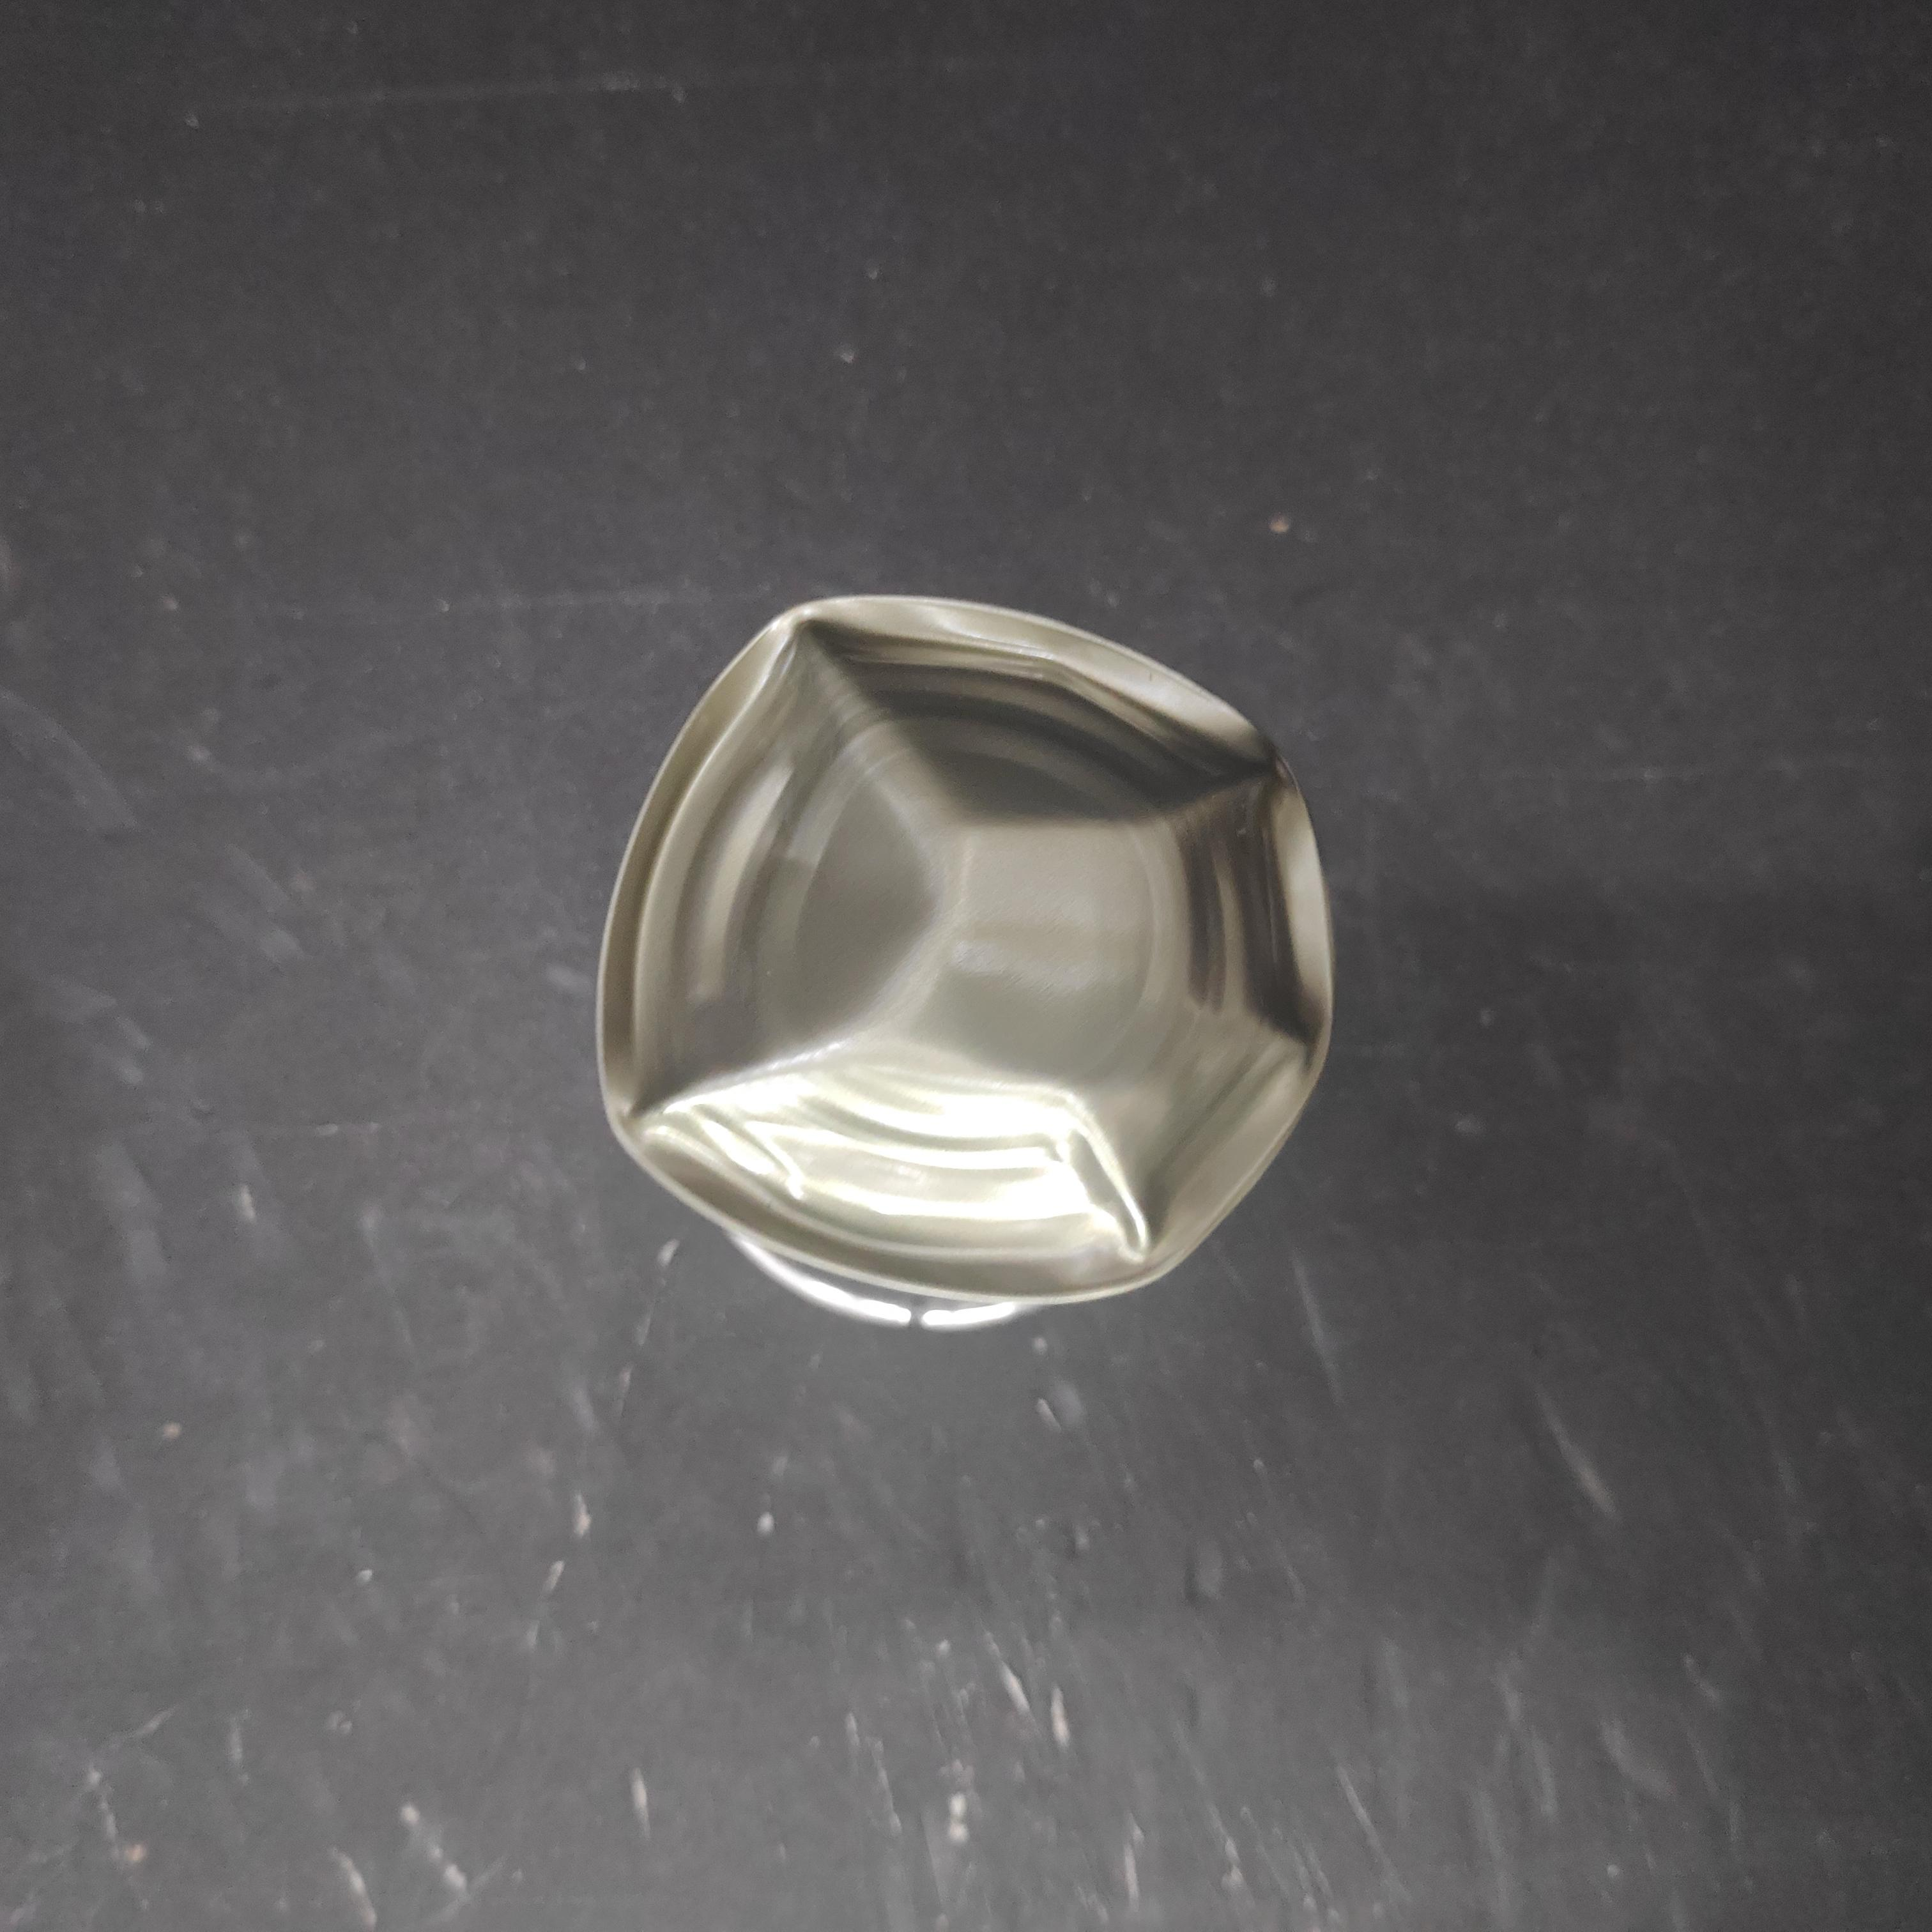Critical Defect: (605, 586, 1352, 1357)
